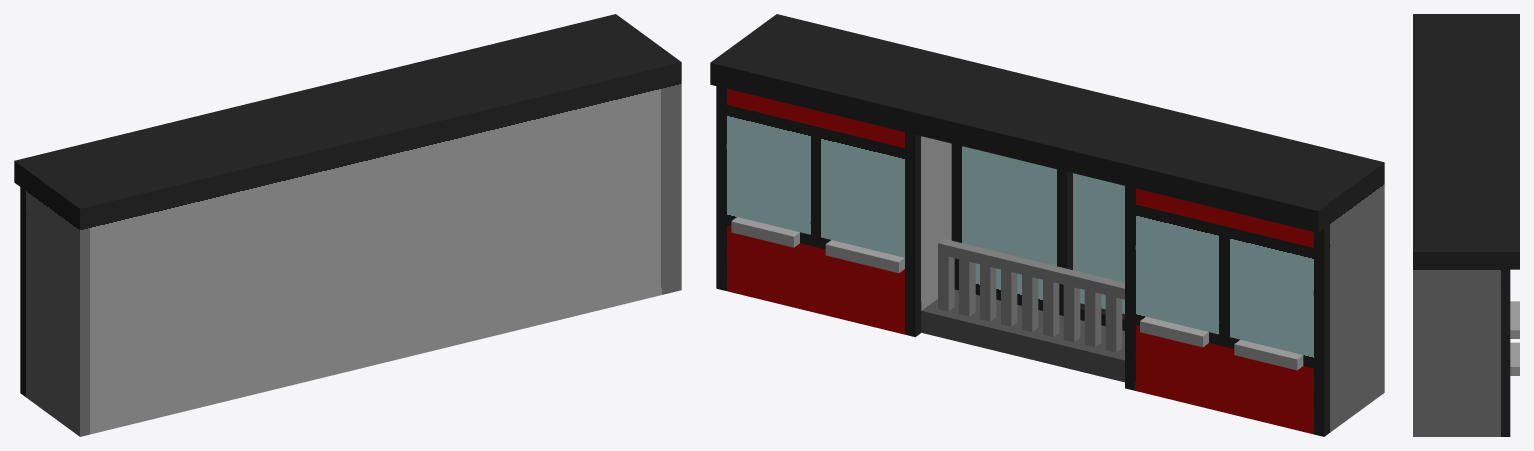
File: obj_floor1b.dae
3 views of the same model, side by side, from view 1: azimuth 30°, elevation 25°; view 2: azimuth 150°, elevation 25°; view 3: azimuth 270°, elevation 25° (orthographic). The views are drawn at different scales.
Parts seen in each view (by area): view 1: obj_floor1b; view 2: obj_floor1b; view 3: obj_floor1b.
Boxes of the visible parts, x1,y1,x2,y2 form: obj_floor1b: [14, 14, 681, 436]; obj_floor1b: [710, 14, 1384, 436]; obj_floor1b: [1413, 14, 1519, 436].
Bounding box in the file's own units: 5.8 × 1.1 × 2.1.
Materials: 1 (1 with a texture image).
